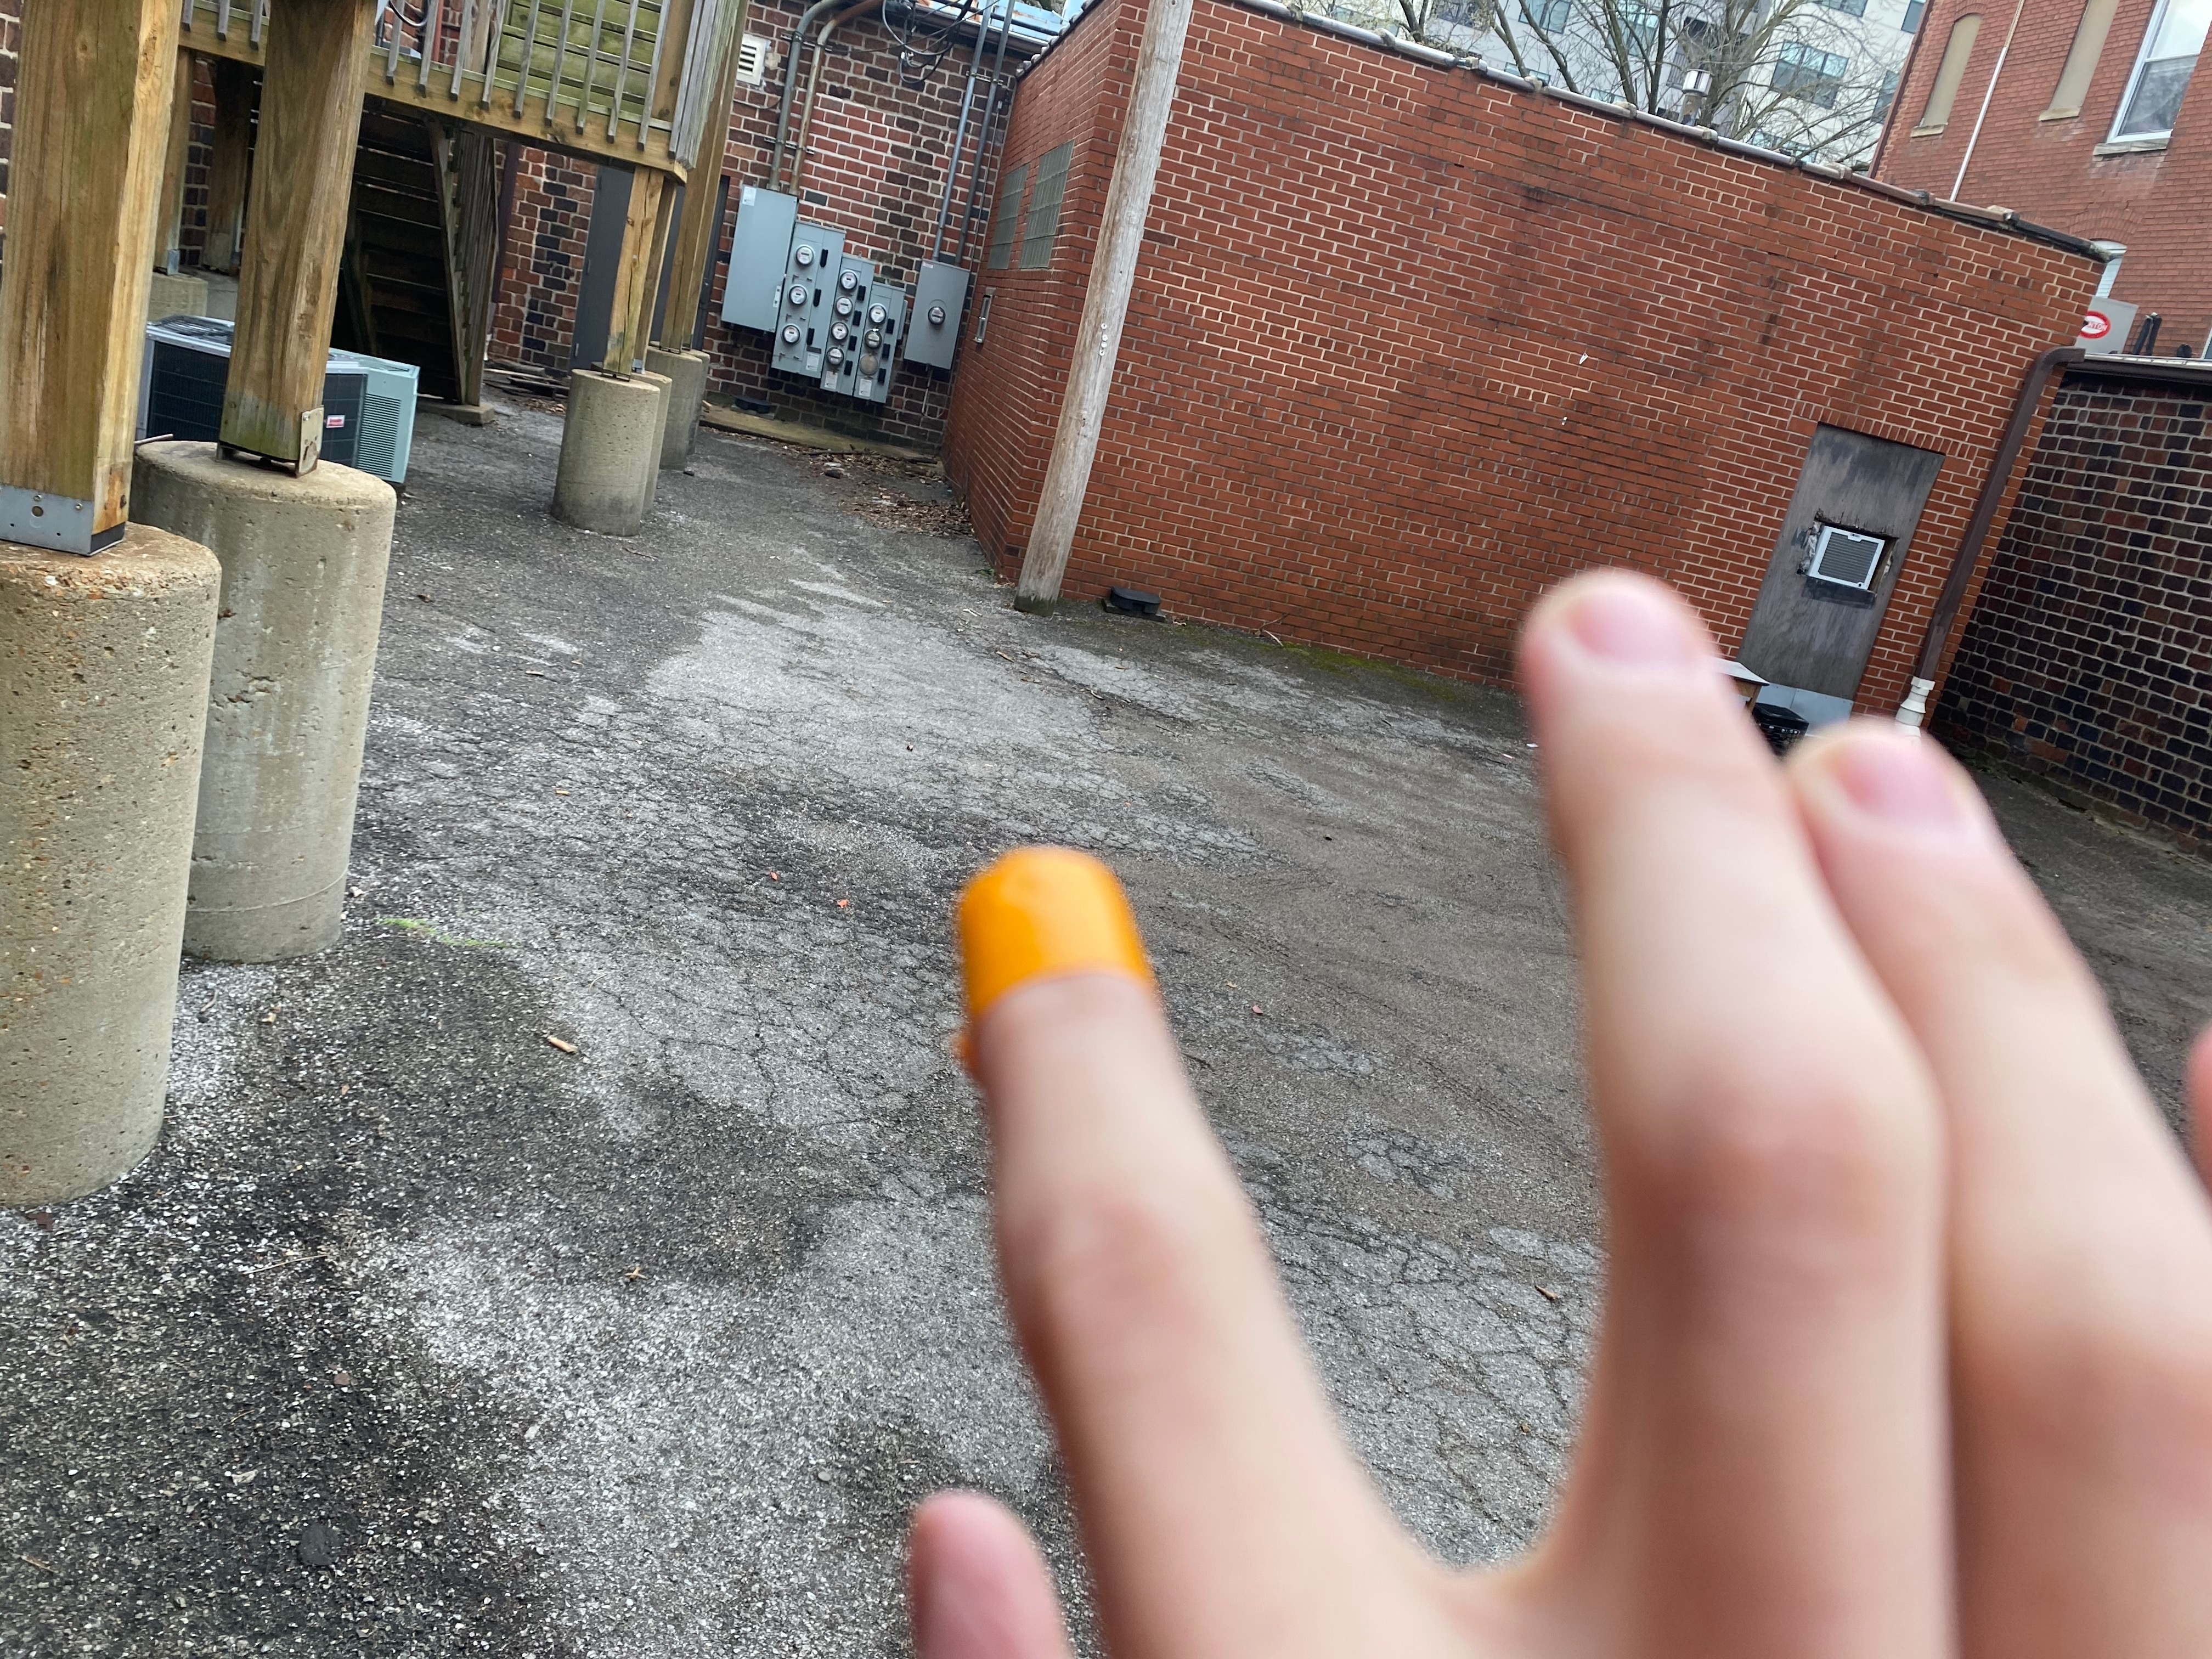fingertip: (928, 830, 1205, 1094)
